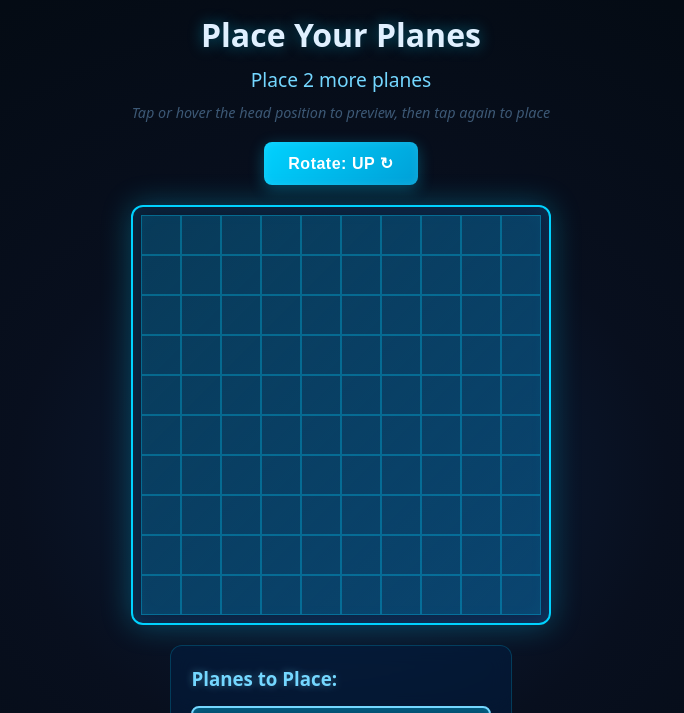
PlanePlacement - Rotation › should cycle through orientations on rotate button click
Click the button with class "btn-rotate" at (341, 164), box [264,142,418,185]
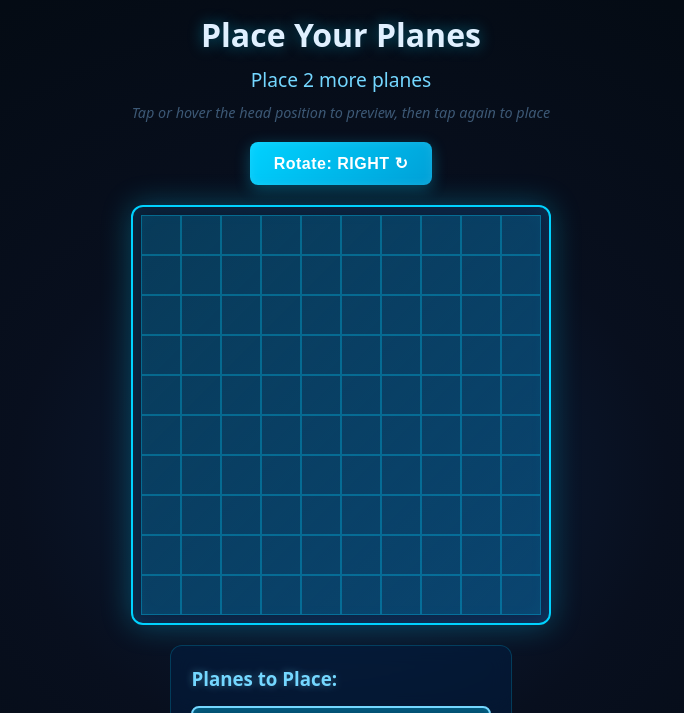
Expected: the button with class "btn-rotate" shows "RIGHT"
Click the button with class "btn-rotate" at (341, 164), box [250,142,432,185]
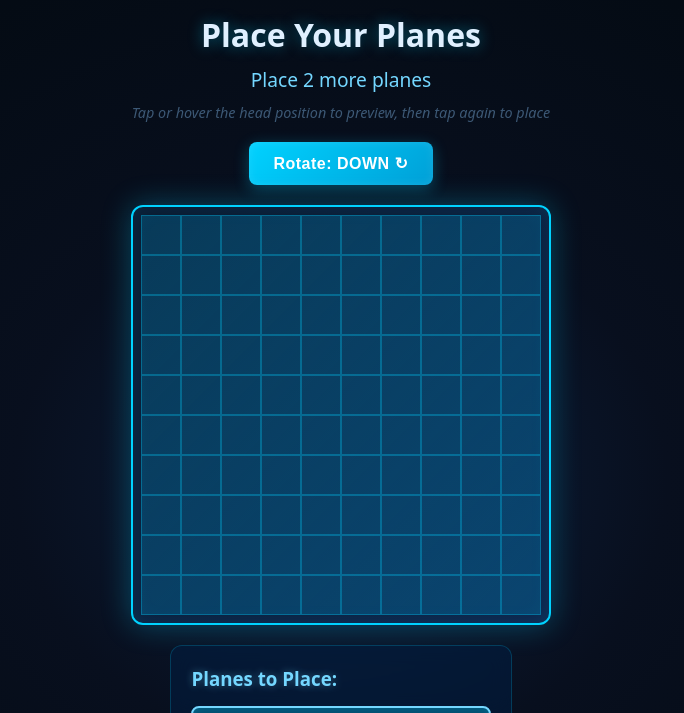
Expected: the button with class "btn-rotate" shows "DOWN"
Click the button with class "btn-rotate" at (341, 164), box [250,142,433,185]
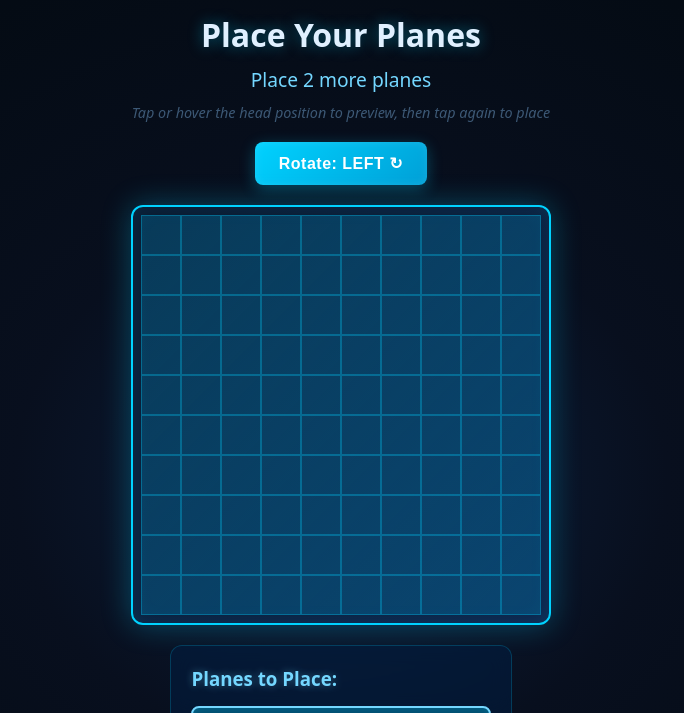
Expected: the button with class "btn-rotate" shows "LEFT"
Click the button with class "btn-rotate" at (341, 164), box [255,142,427,185]
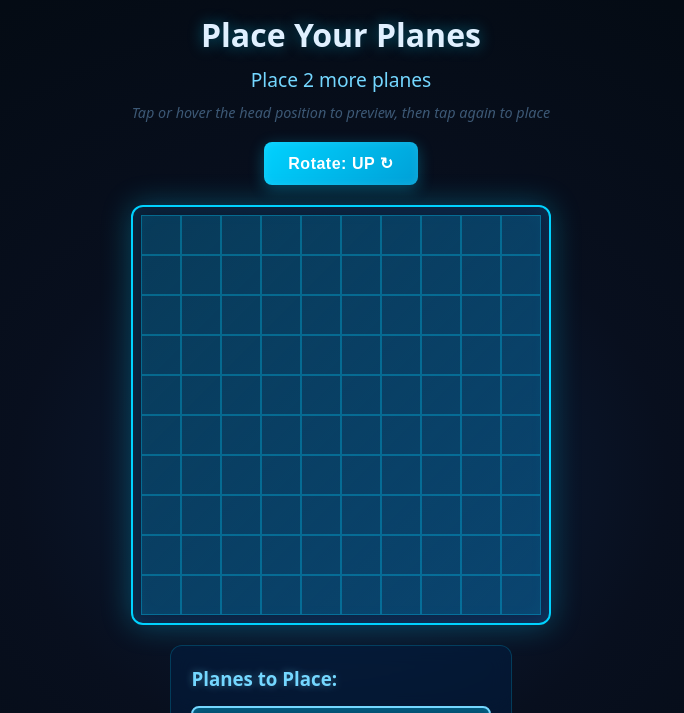
Expected: the button with class "btn-rotate" shows "UP", [264,142,418,185]
